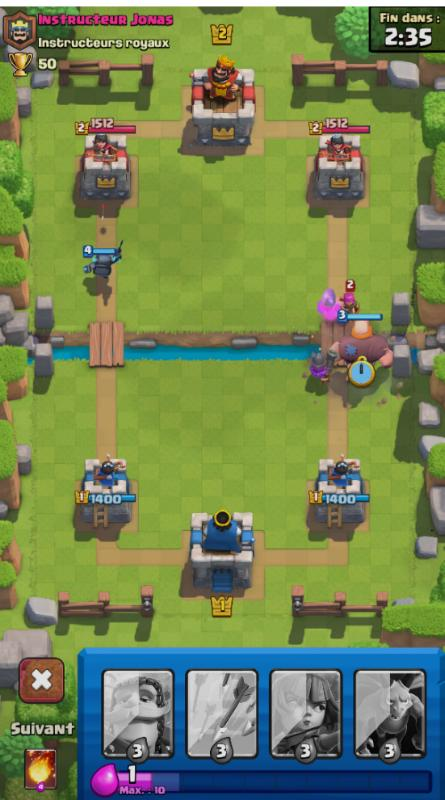archere: (338, 281, 364, 321)
geant: (329, 314, 398, 379)
mini_PEKKA: (80, 240, 126, 285)
mousquetaire: (302, 343, 339, 387)
